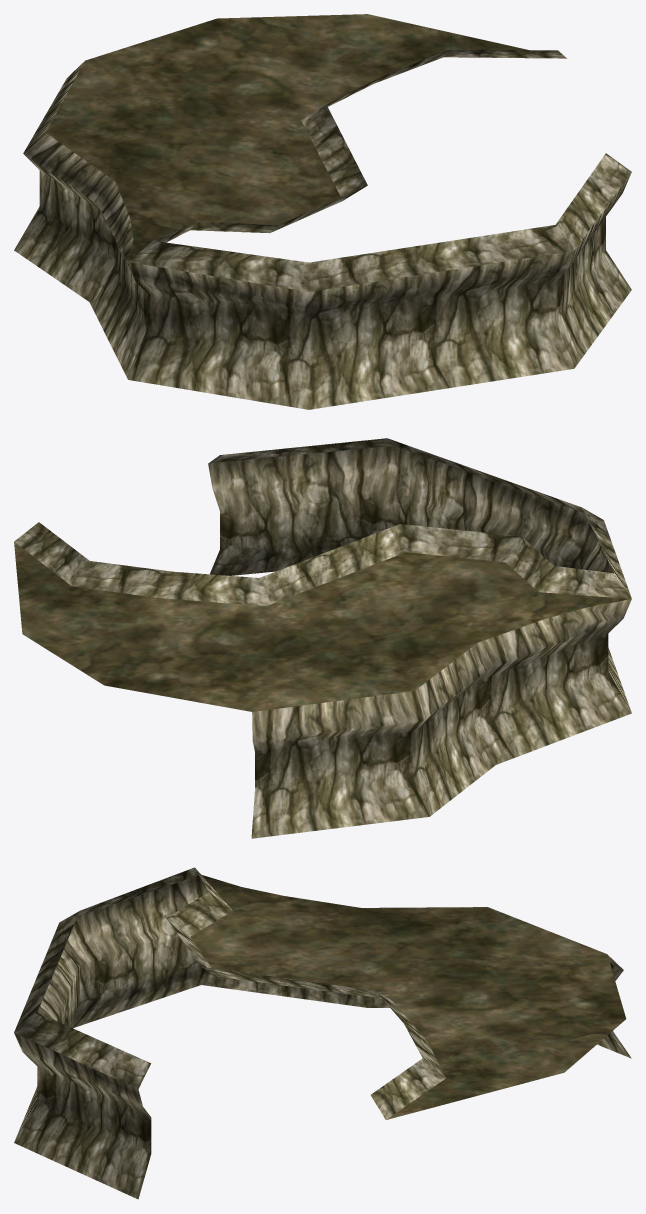
Rendered from CB_NEWPLAYSURFACE_CB_PLAYSURFACE103.fbx.
The picture shows the model from 3 angles, top to bottom: view 1: azimuth 30°, elevation 25°; view 2: azimuth 150°, elevation 25°; view 3: azimuth 270°, elevation 25°; orthographic projection. The views are drawn at different scales.
Parts seen in each view (by area): view 1: CB_NEWPLAYSURFACE_CB_PLAYSURFACE103; view 2: CB_NEWPLAYSURFACE_CB_PLAYSURFACE103; view 3: CB_NEWPLAYSURFACE_CB_PLAYSURFACE103.
Part boxes in pixels (box(x1,y1,x2,y2)): CB_NEWPLAYSURFACE_CB_PLAYSURFACE103: box(14, 14, 631, 409); CB_NEWPLAYSURFACE_CB_PLAYSURFACE103: box(14, 438, 631, 838); CB_NEWPLAYSURFACE_CB_PLAYSURFACE103: box(14, 867, 631, 1199).
Bounding box in the file's own units: 143225 × 34699 × 152386.
Materials: 2 (2 with a texture image).
